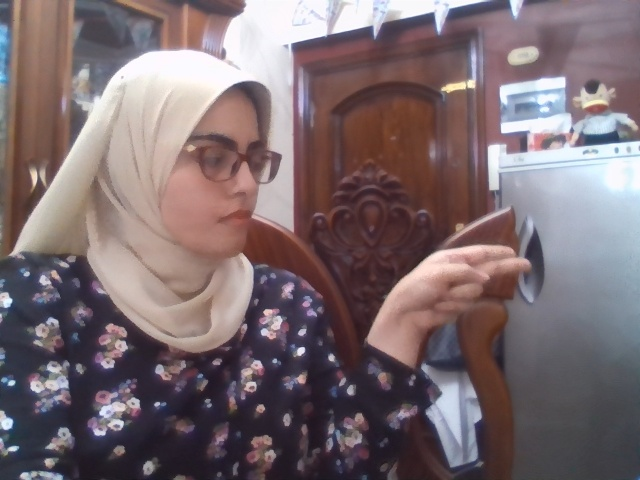H: (386, 245, 531, 330)
